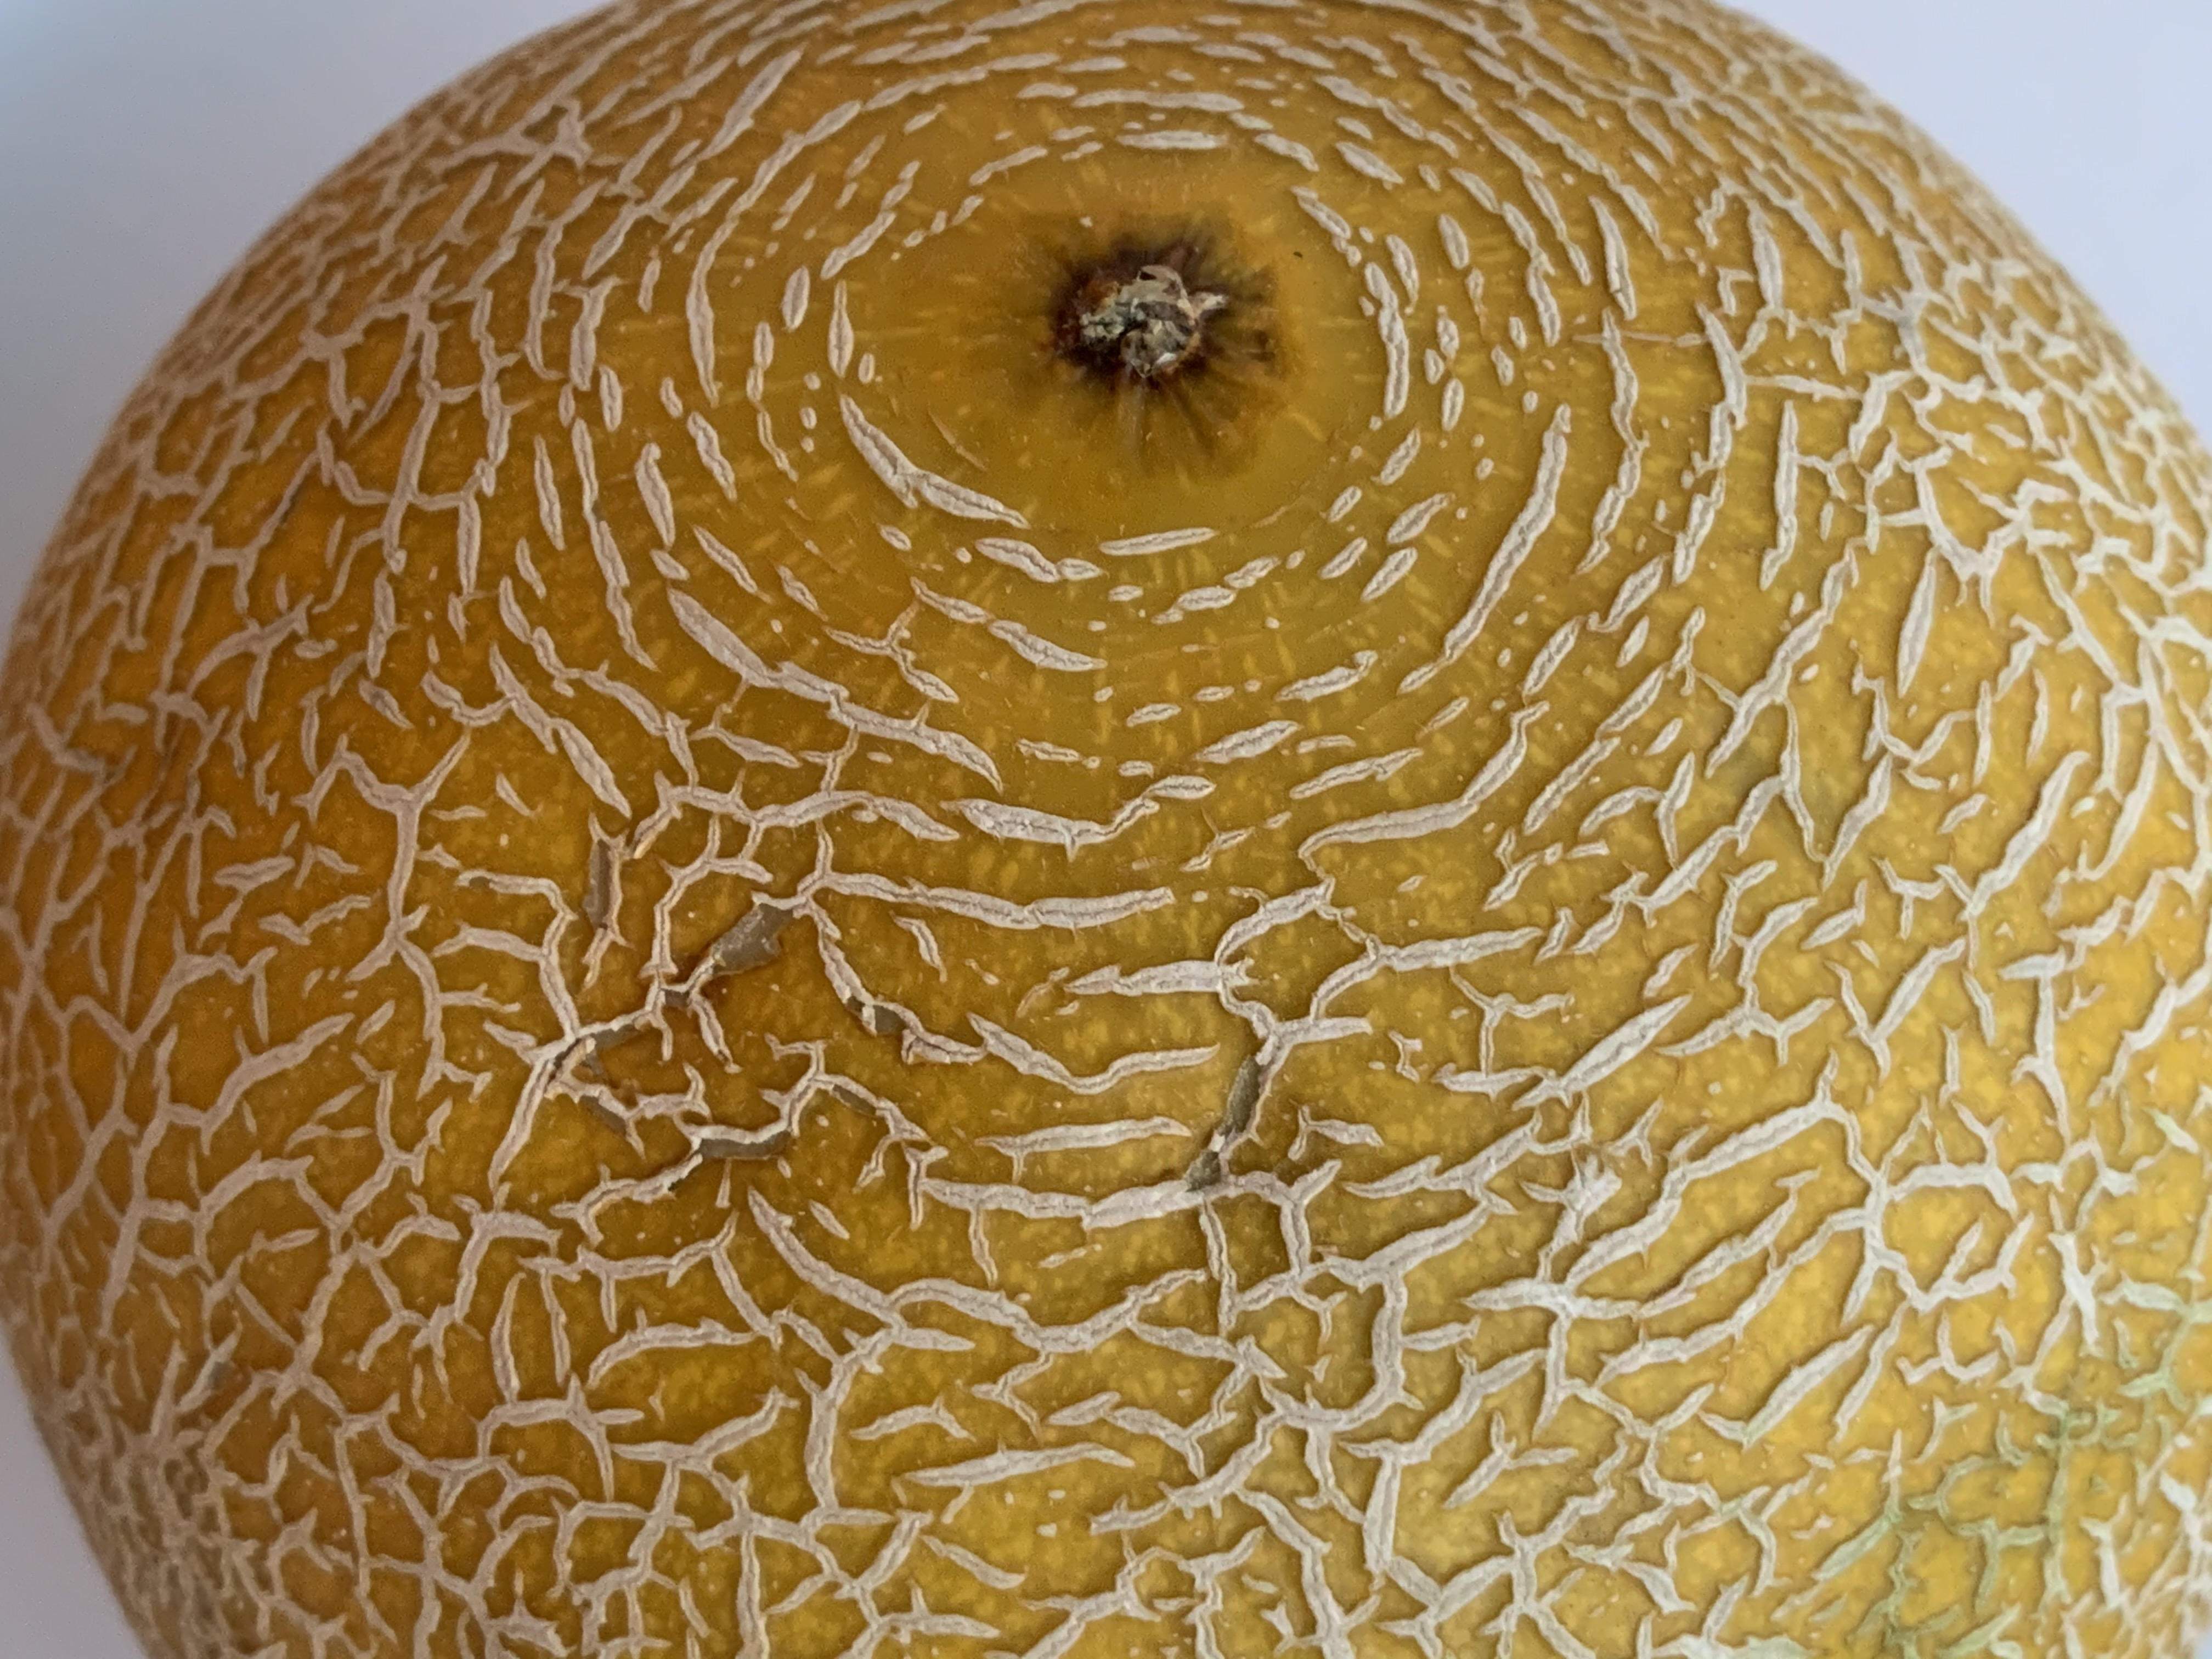galia melon: (0, 3, 2202, 1647)
